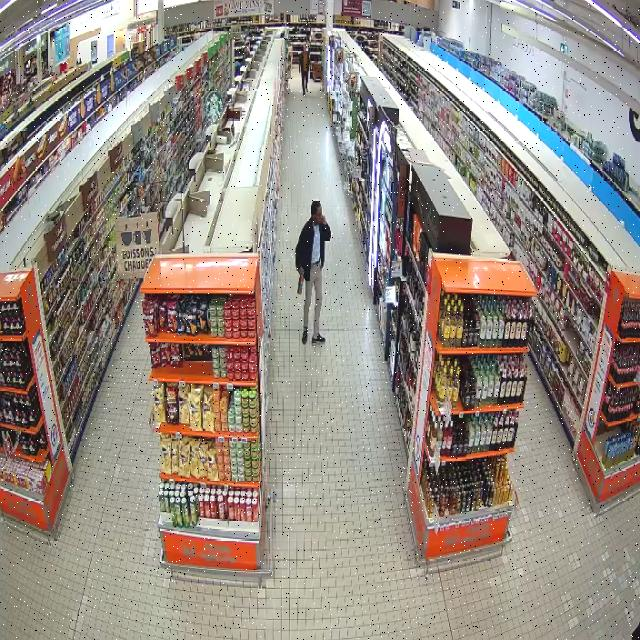article: (297, 274, 304, 295)
hands: (321, 215, 327, 224), (299, 267, 303, 275)
person: (295, 201, 331, 343)
